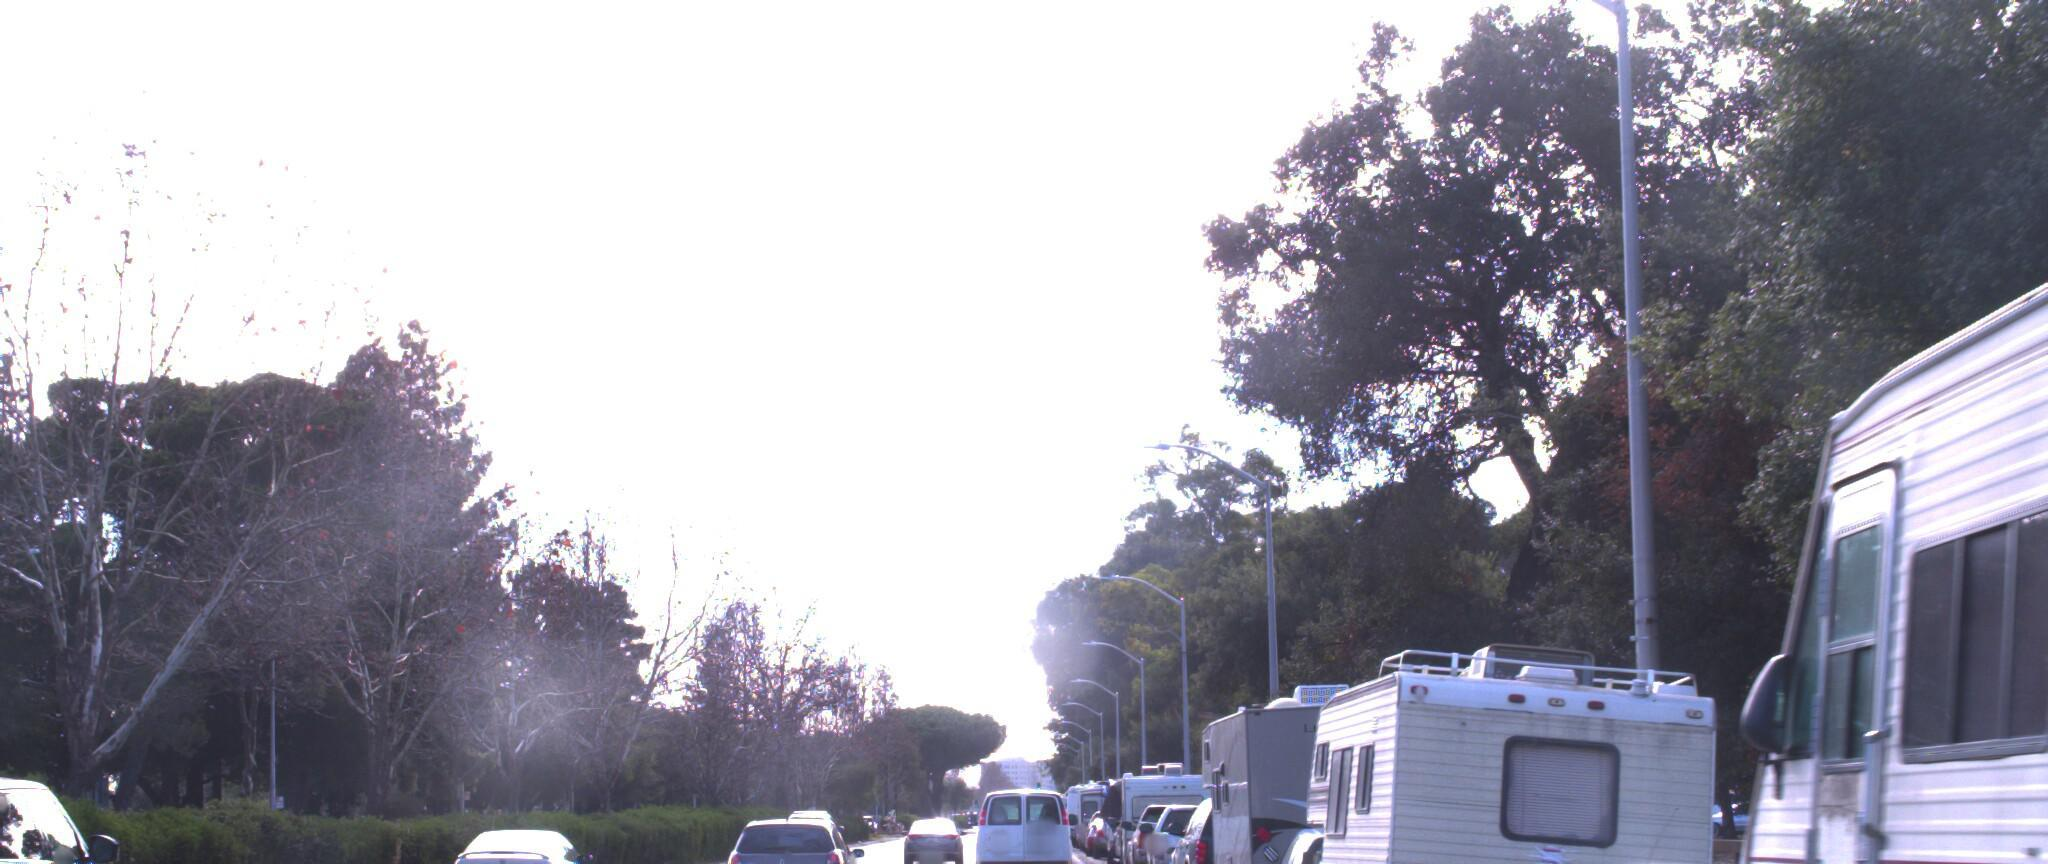car: (0, 731, 206, 864), (0, 754, 131, 864), (1448, 844, 2048, 864), (453, 796, 615, 864), (1168, 784, 1304, 864), (713, 795, 867, 864), (982, 765, 1079, 864), (1256, 816, 1405, 864), (1147, 797, 1246, 864)
other_vehicle: (1694, 0, 2048, 864), (1293, 603, 1752, 864), (1189, 646, 1450, 864), (1117, 736, 1226, 864)
